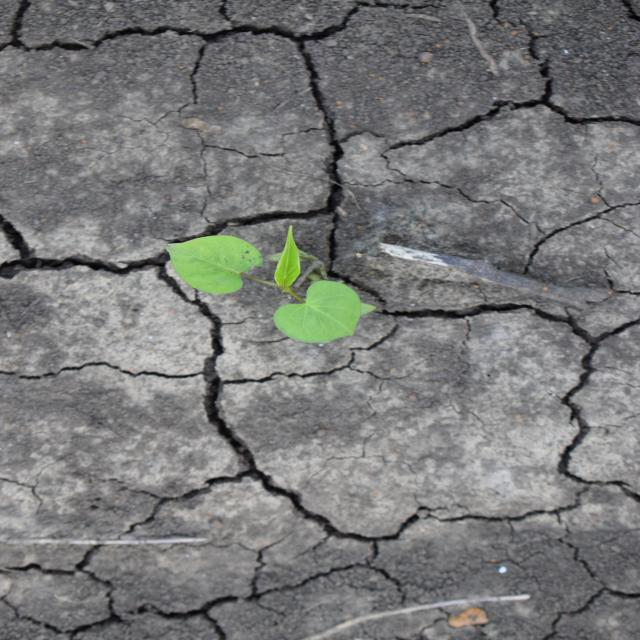MorningGlory: (160, 223, 381, 346)
